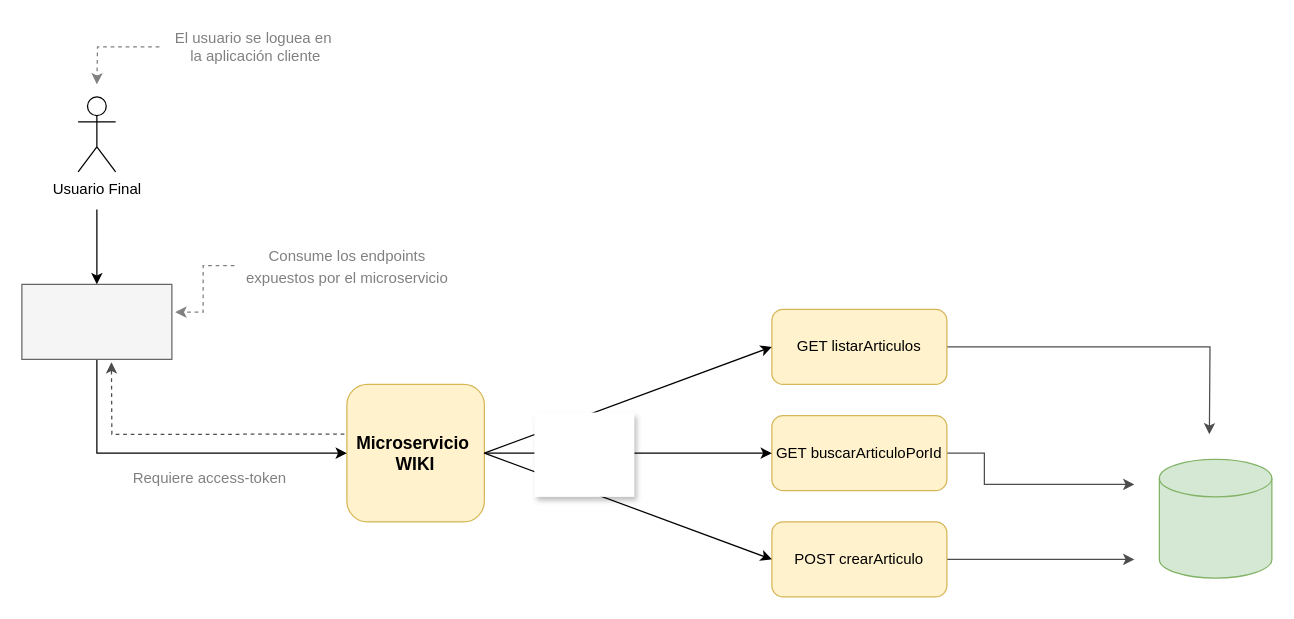
The diagram is 1294 pixels wide and 619 high, and some of its shapes have lost their labels. The centre of each missing label's shape, as x and y in pixels:
"Cliente FrontEnd" belongs at (96,321).
"MariaDB" belongs at (1215,518).
"se envía un access-token" belongs at (585,456).
